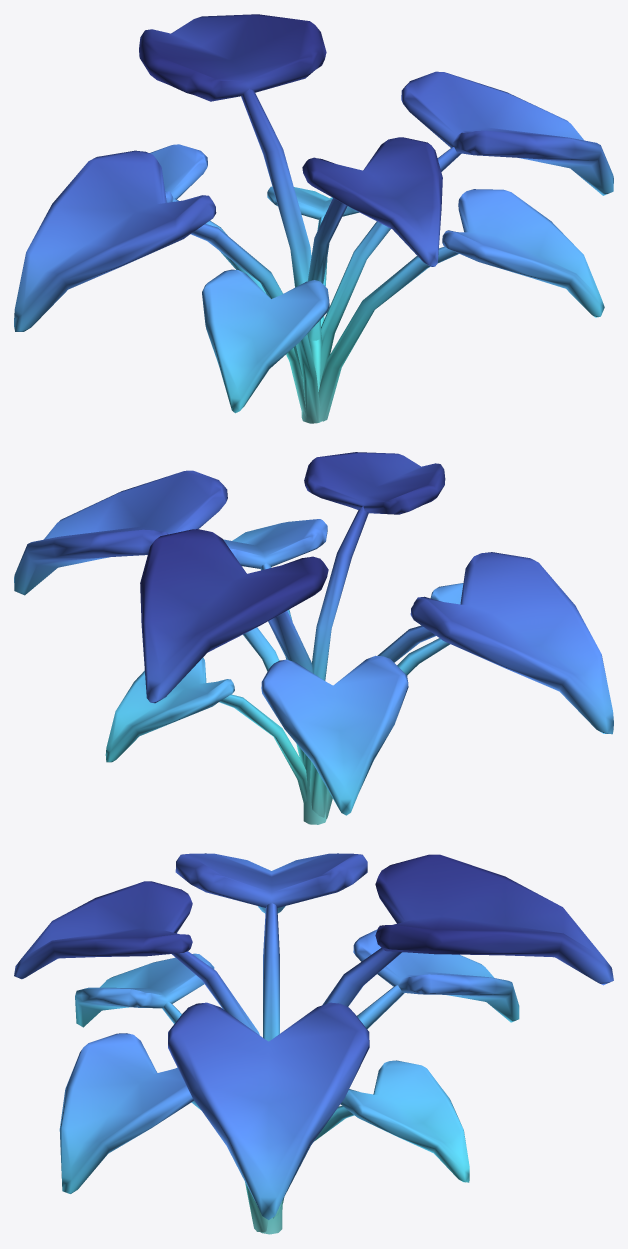
The model's file is Plant21.fbx.
3 renders of one model, top to bottom at view 1: azimuth 30°, elevation 25°; view 2: azimuth 150°, elevation 25°; view 3: azimuth 270°, elevation 25°, orthographic. The views are drawn at different scales.
Visible parts, largest first — view 1: Plant.033_Material.001_0; view 2: Plant.033_Material.001_0; view 3: Plant.033_Material.001_0.
Part boxes in pixels (box(x1,y1,x2,y2)): Plant.033_Material.001_0: box(14, 14, 613, 423); Plant.033_Material.001_0: box(14, 452, 613, 824); Plant.033_Material.001_0: box(14, 853, 613, 1234).
Size of the model in its own units: 35.78 by 18.31 by 29.61.
